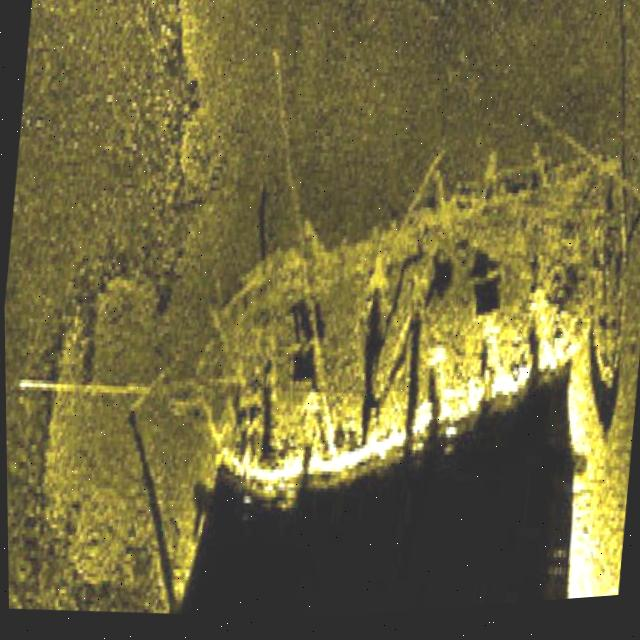shipwreck: (157, 116, 632, 545)
